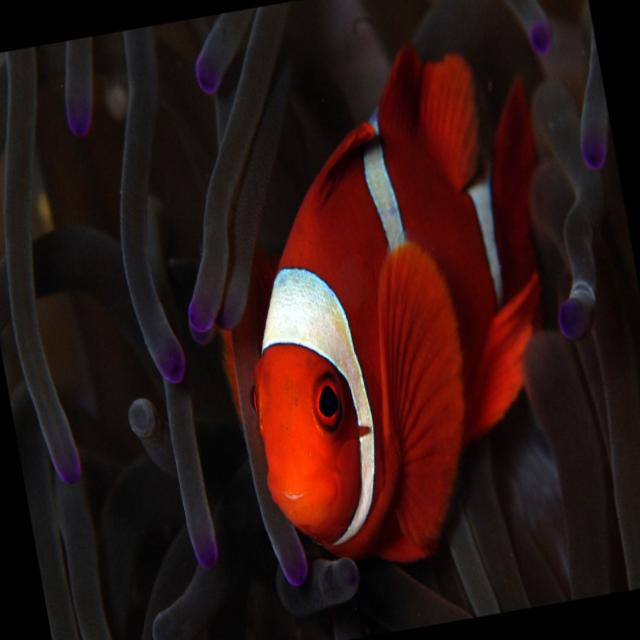ClownFish: (197, 32, 602, 590)
